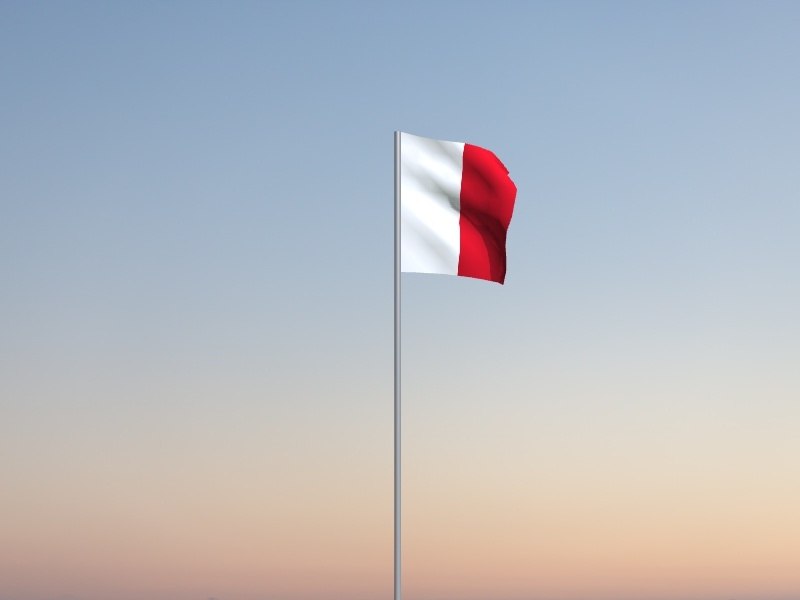mc: (402, 132, 519, 287)
